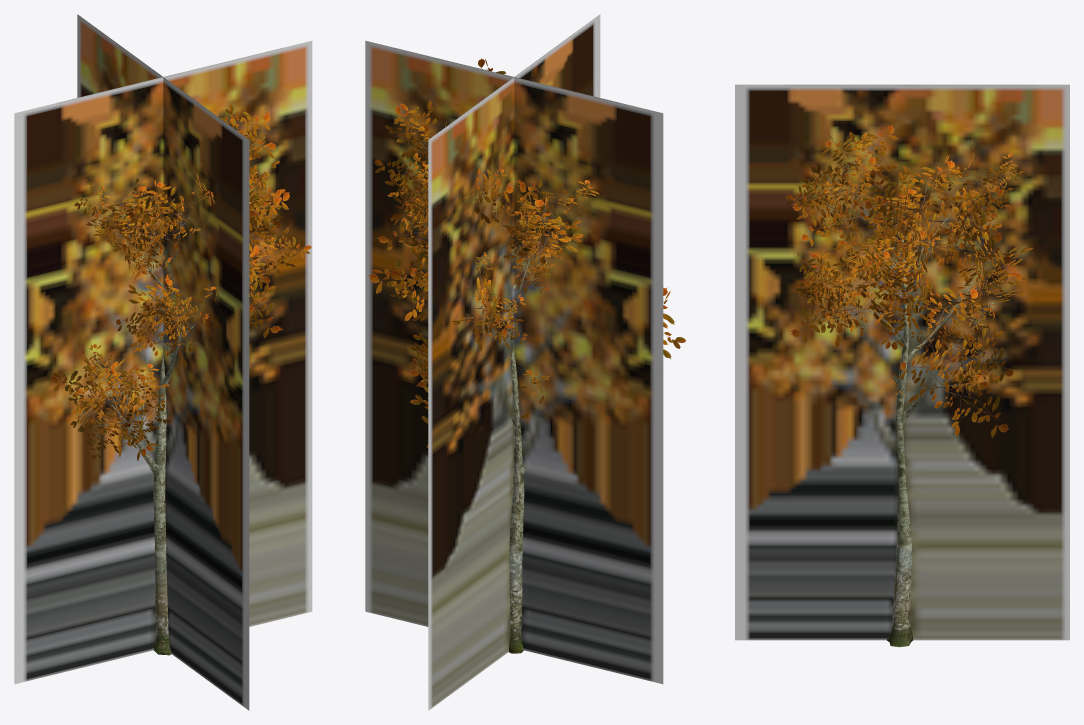
File: Tree-Beech1C-mobile.fbx
3 renders of one model, left to right at view 1: azimuth 30°, elevation 25°; view 2: azimuth 150°, elevation 25°; view 3: azimuth 270°, elevation 25°, orthographic. The views are drawn at different scales.
Visible parts, largest first — view 1: Billboard-BeechC, Tree-Beech1C-mobile_LOD0; view 2: Billboard-BeechC, Tree-Beech1C-mobile_LOD0; view 3: Billboard-BeechC, Tree-Beech1C-mobile_LOD0.
Part boxes in pixels (<box>): Billboard-BeechC: <box>14,14,312,710</box>; Tree-Beech1C-mobile_LOD0: <box>51,103,311,655</box>; Billboard-BeechC: <box>365,14,663,710</box>; Tree-Beech1C-mobile_LOD0: <box>368,58,685,653</box>; Billboard-BeechC: <box>735,84,1069,640</box>; Tree-Beech1C-mobile_LOD0: <box>785,125,1032,647</box>.
Size of what is drawn, in the model's own units: 1253 by 2294 by 1253.
